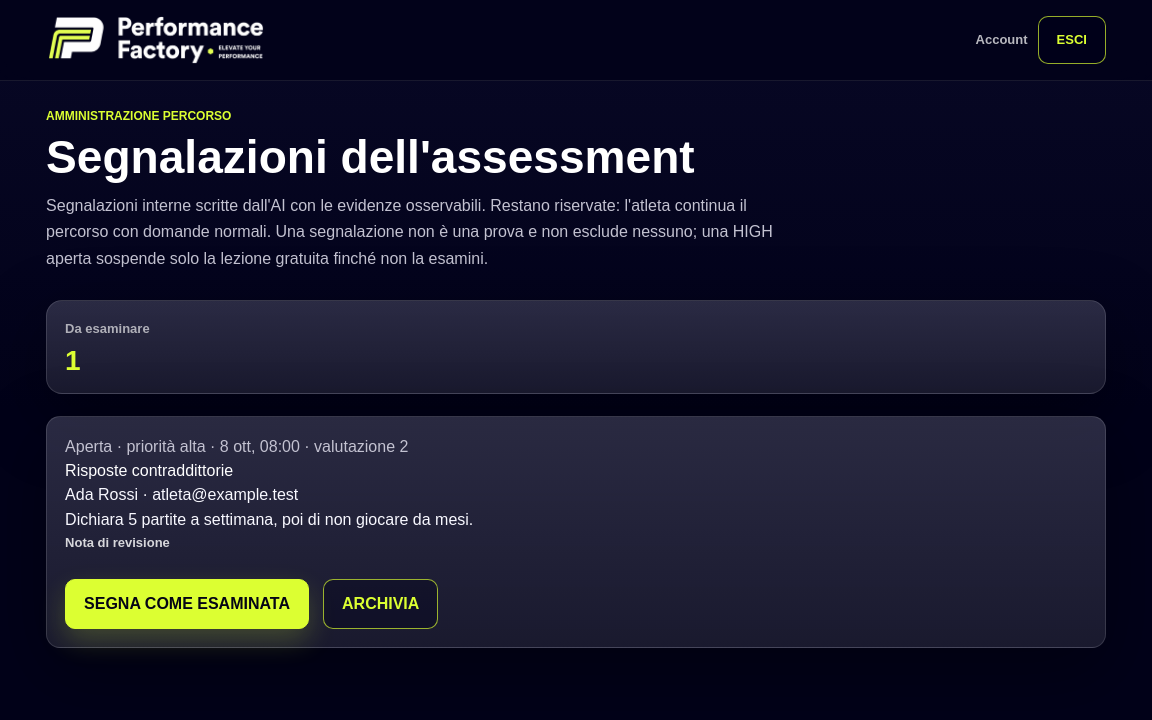
AT-11: shows the evidence to the admin and records the review
(page scrolled)
Expected: the heading "Risposte contraddittorie" is shown, x1=65 y1=462 x2=233 y2=479
Expected: the text "Dichiara 5 partite a settimana, poi di non giocare da mesi." is shown, x1=65 y1=511 x2=473 y2=528
Type "Verificato." into the field labelled "Nota di revisione".
click(576, 569); type("Verificato.")  # box x1=65 y1=560 x2=1087 y2=579
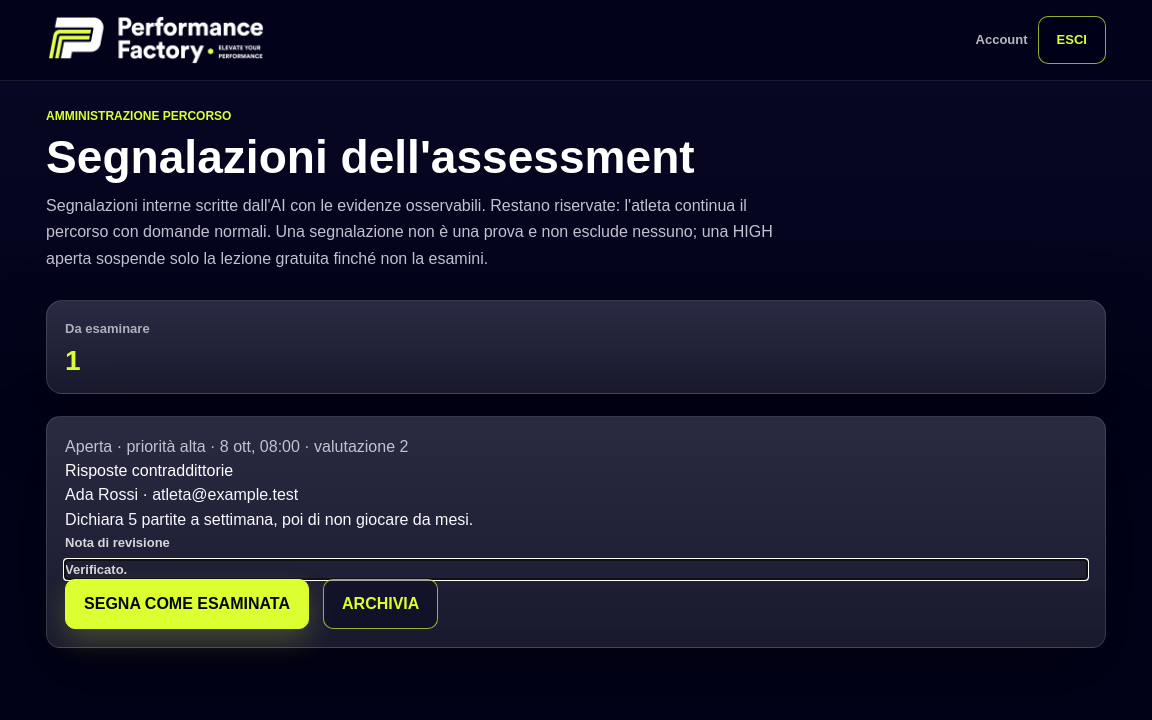
Click the button "Segna come esaminata".
click(187, 604)  # box x1=65 y1=579 x2=309 y2=629
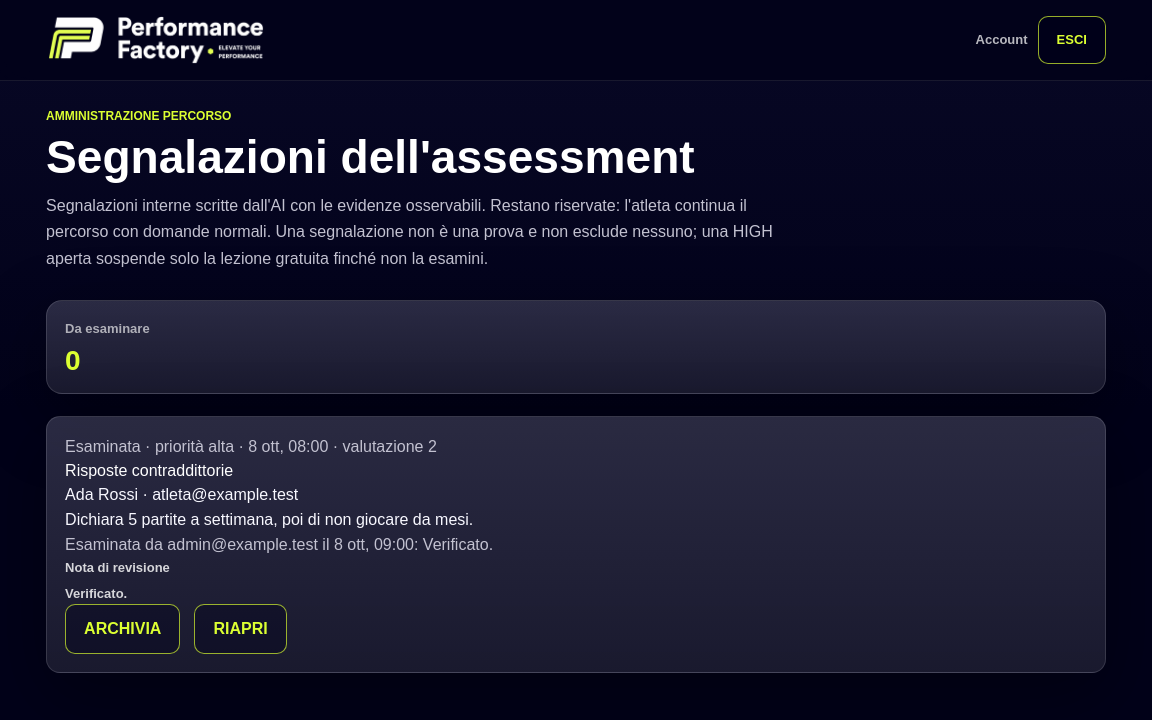
Expected: the text "Esaminata da admin@example.test il 8 ott, 09:00: Verificato." is shown, x1=65 y1=536 x2=493 y2=553
Expected: the button "Riapri" is shown, x1=194 y1=604 x2=287 y2=654
